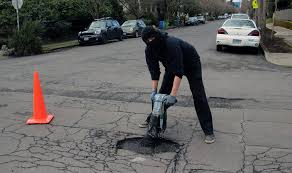pothole: (105, 131, 185, 162)
